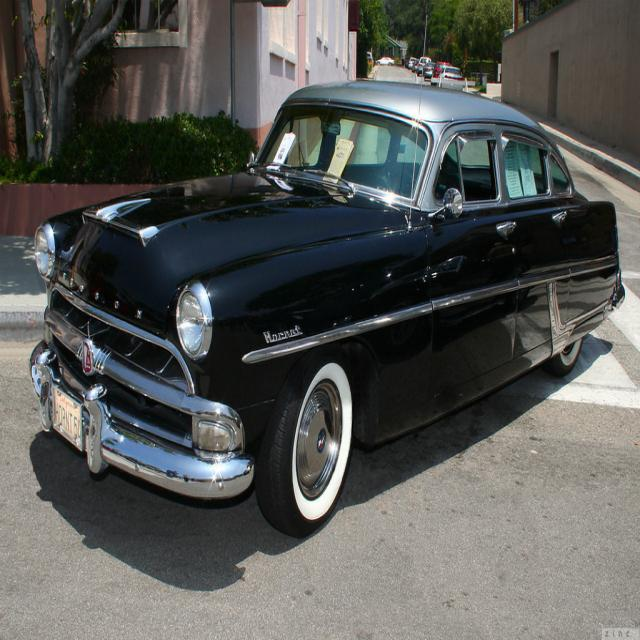car: (27, 5, 627, 539)
